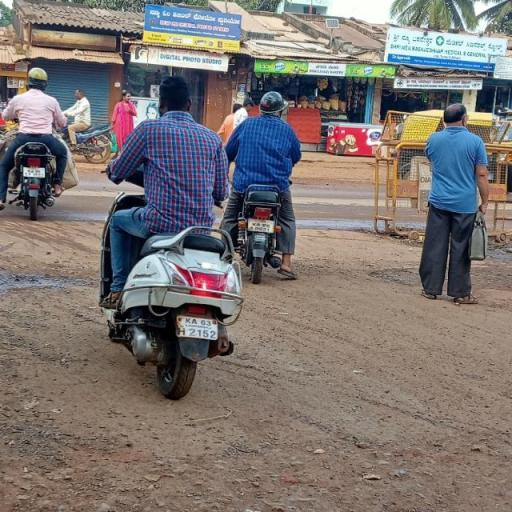bike: (96, 73, 246, 400)
numberplate: (177, 316, 223, 342)
withouthelmet: (158, 77, 192, 112)
